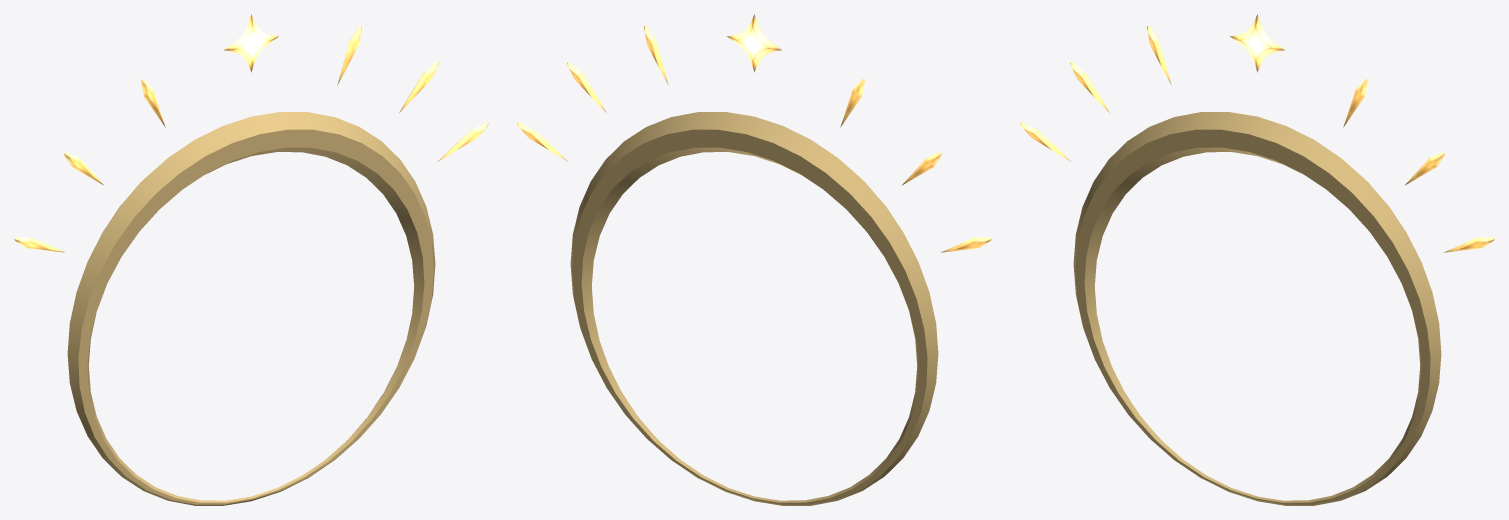
The model's file is Sincerity Circle.fbx.
The picture shows the model from 3 angles, left to right: view 1: azimuth 30°, elevation 25°; view 2: azimuth 150°, elevation 25°; view 3: azimuth 330°, elevation 25°; orthographic projection.
Parts seen in each view (by area): view 1: Sincerity Circle; view 2: Sincerity Circle; view 3: Sincerity Circle.
Boxes of the visible parts, x1,y1,x2,y2 form: Sincerity Circle: (14, 14, 488, 505); Sincerity Circle: (517, 14, 991, 505); Sincerity Circle: (1020, 14, 1494, 505).
Bounding box in the file's own units: 0.2216 × 0.2175 × 0.0135.
